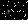person: (5, 7, 12, 17)
